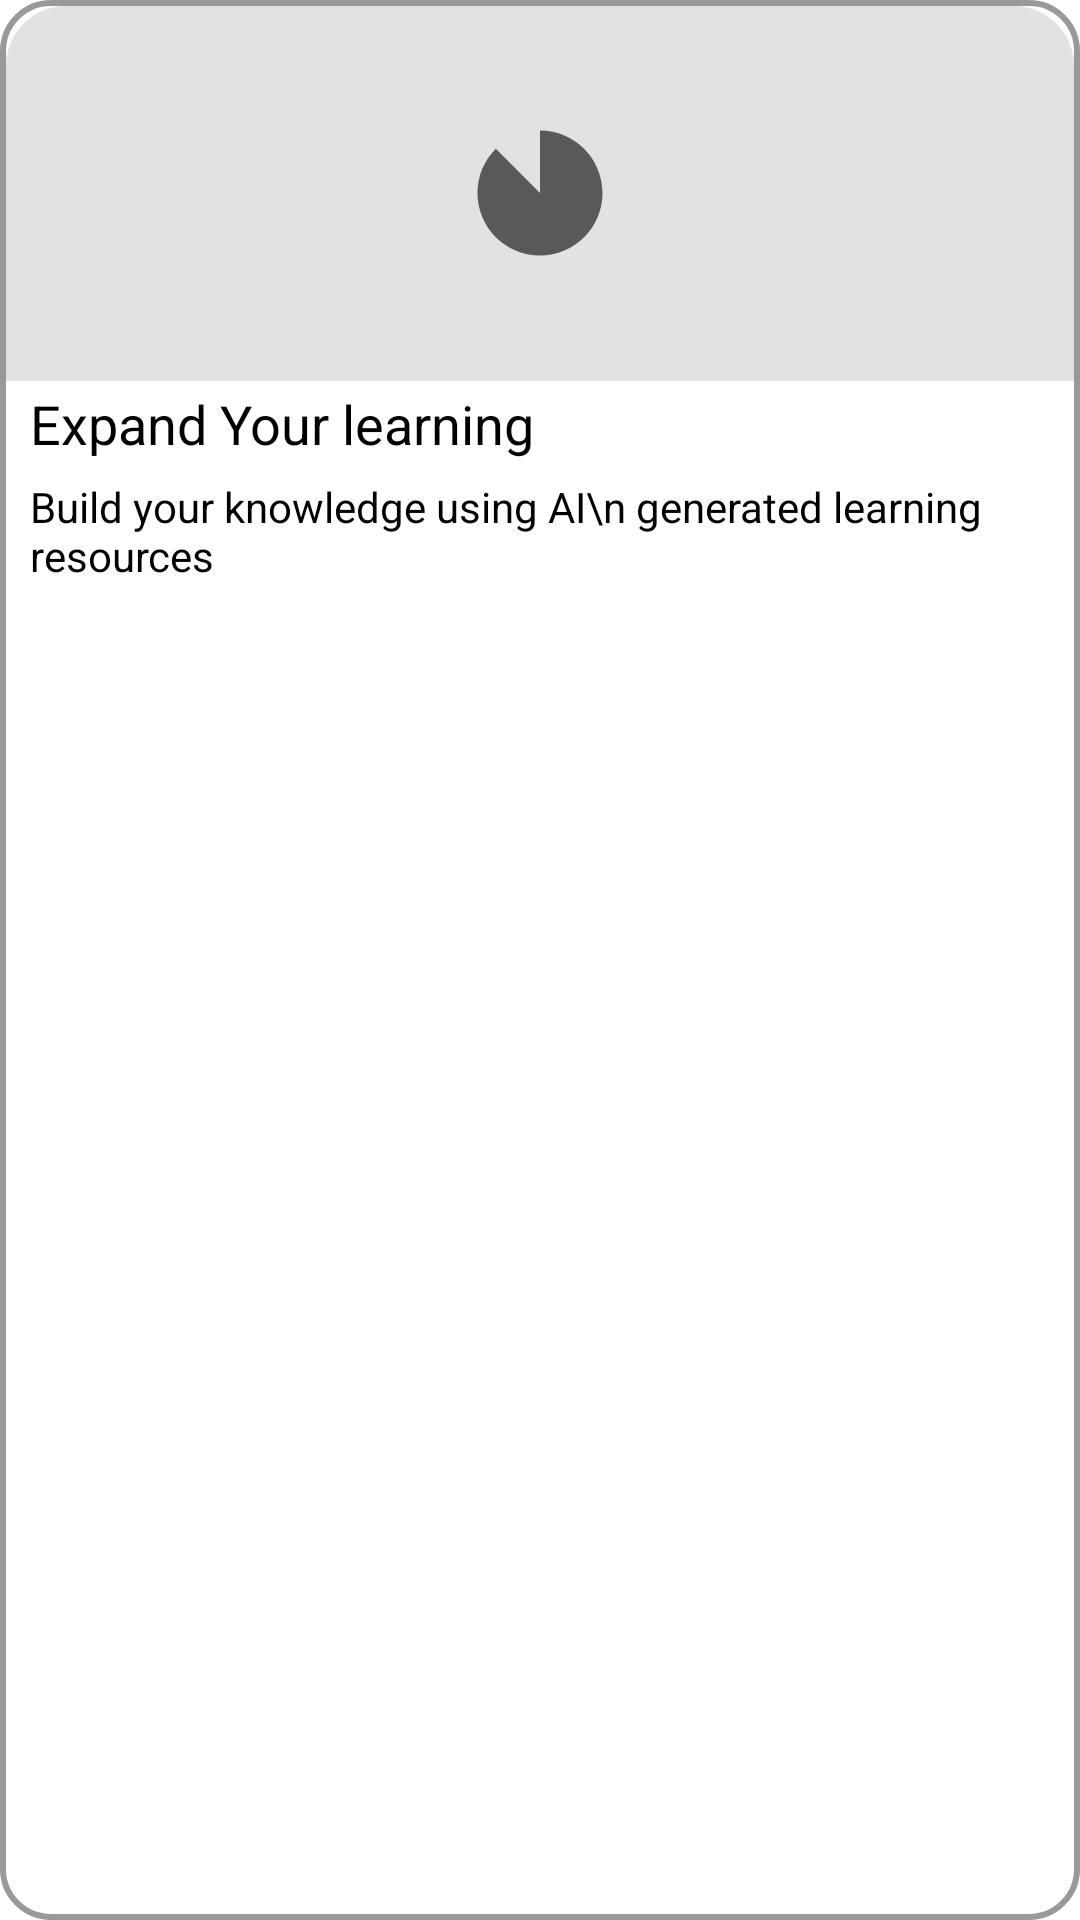

Where icons sit on this 1080px×1920px app screen, as box=[x1, y1, x2, y2]:
incomplete: box=[477, 130, 603, 256]
